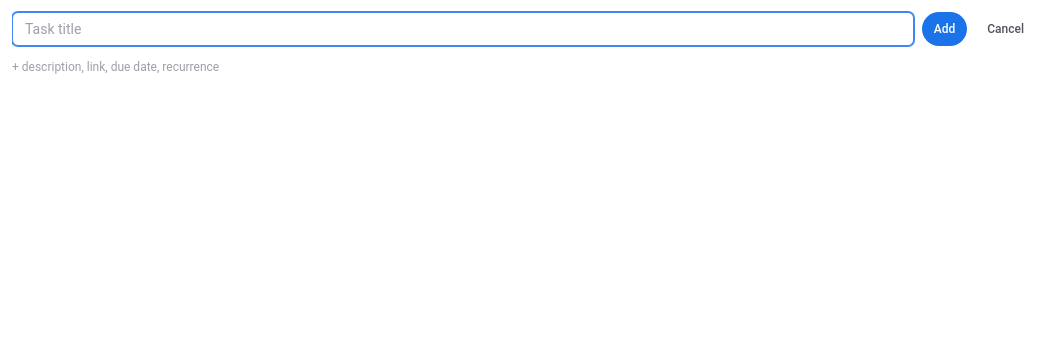
Test: AddLinkForm inside the task forms › Escape in the link fields closes only the link form, not the task being typed
In the text box with placeholder "Task title": point(463, 29) [12,12,914,46], type "Keep me"
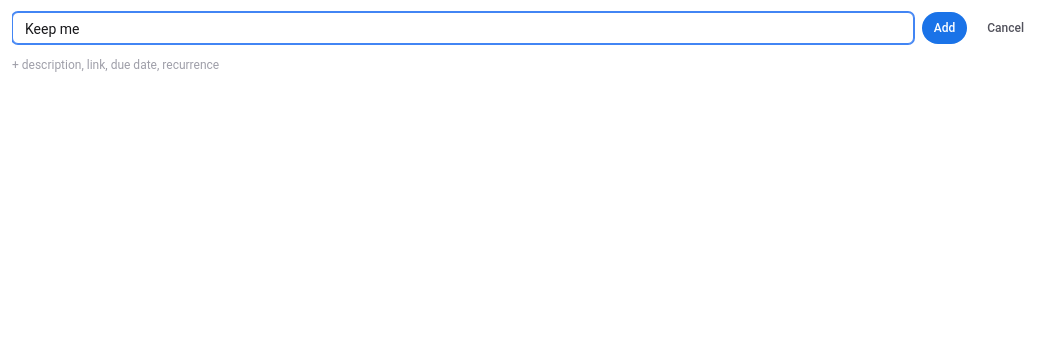
Click the button "+ description, link, due date, recurrence": point(116, 65) [12,57,219,73]
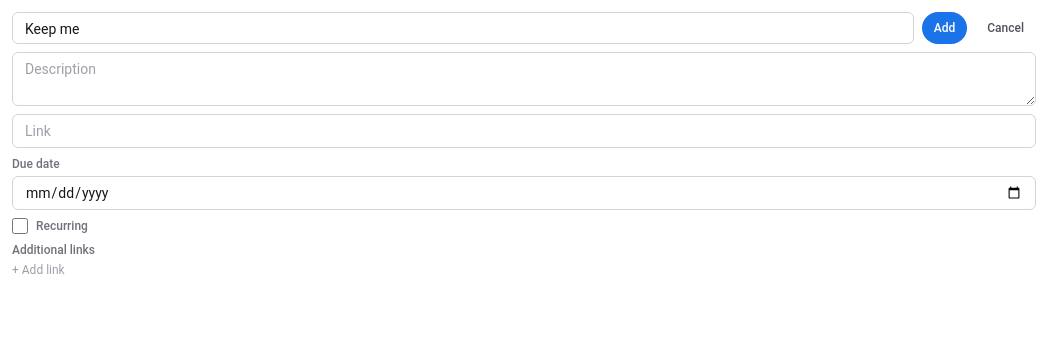
Click the button "+ Add link": point(38, 270) [12,262,1036,278]
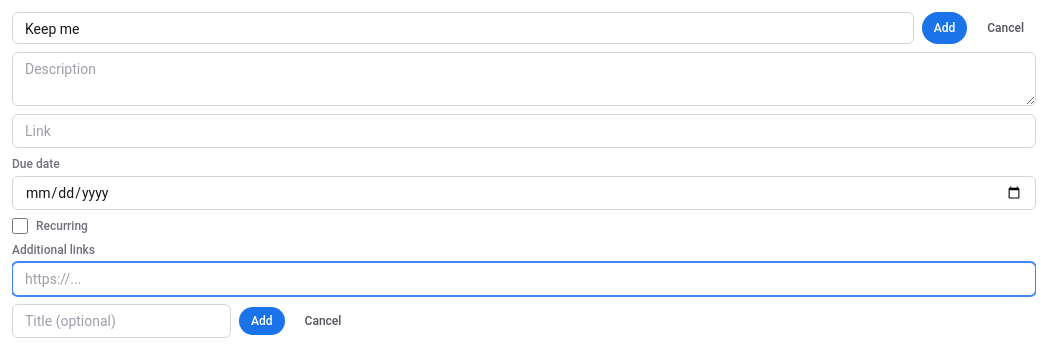
In the field with placeholder "https://...": point(524, 279) [12,262,1036,296], type "https://half"
Then press Escape
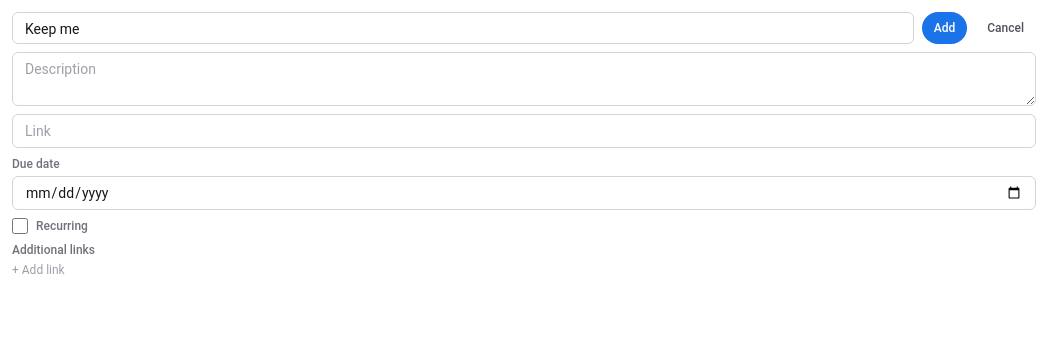
expect the field with placeholder "https://..." is gone: met
